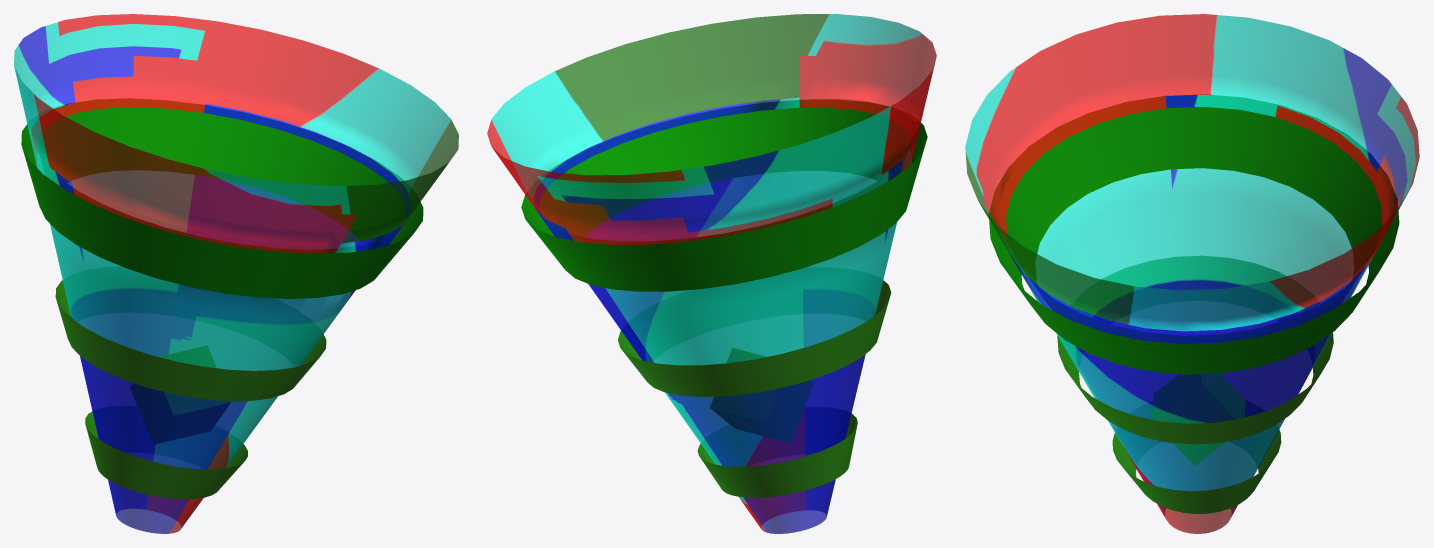
Rendered from Movement2.glb.
The picture shows the model from 3 angles, left to right: view 1: azimuth 30°, elevation 25°; view 2: azimuth 150°, elevation 25°; view 3: azimuth 270°, elevation 25°; orthographic projection.
Visible parts, largest first — view 1: Cylinder.004; view 2: Cylinder.004; view 3: Cylinder.004.
Part boxes in pixels (left/top/right/bottom): Cylinder.004: left=14, top=14, right=458, bottom=533; Cylinder.004: left=487, top=14, right=936, bottom=533; Cylinder.004: left=965, top=14, right=1419, bottom=533.
Bounding box in the file's own units: 2.65 × 2.99 × 2.72.
4 materials, 1 textured.
